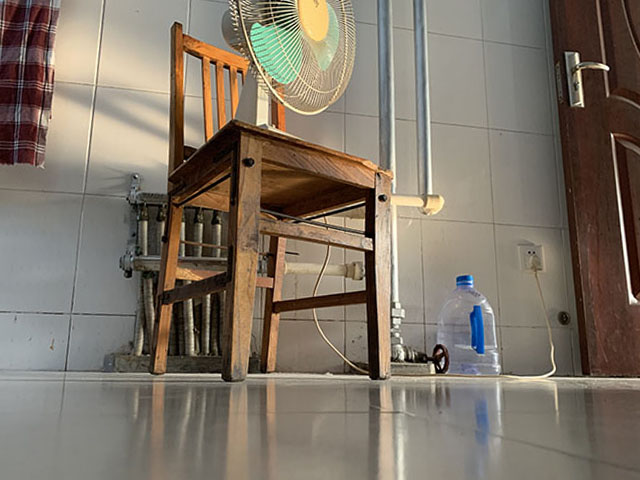stool: (149, 15, 396, 382)
wire: (310, 216, 370, 376), (503, 251, 558, 380)
